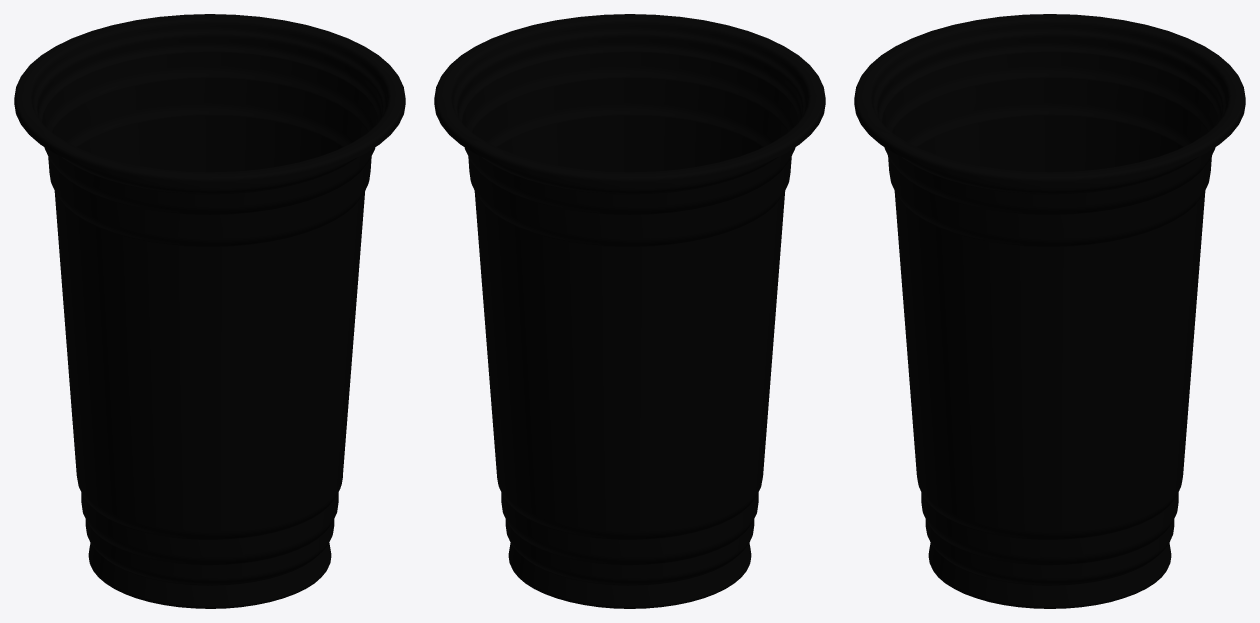
The picture shows the model from 3 angles, left to right: view 1: azimuth 30°, elevation 25°; view 2: azimuth 150°, elevation 25°; view 3: azimuth 270°, elevation 25°; orthographic projection.
Parts seen in each view (by area): view 1: models; view 2: models; view 3: models.
Boxes of the visible parts, box(x1,y1,x2,y2) form: models: box(14, 14, 405, 608); models: box(434, 14, 825, 608); models: box(854, 14, 1245, 608).
Size of the model in its own units: 0.092 by 0.1201 by 0.092.
Materials: 1 (1 with a texture image).
